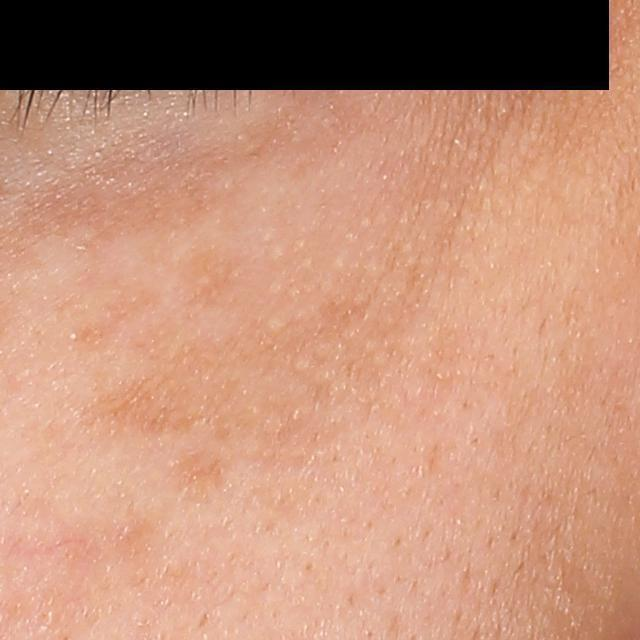melasma: (80, 368, 205, 435), (181, 241, 247, 308), (169, 451, 227, 509)
